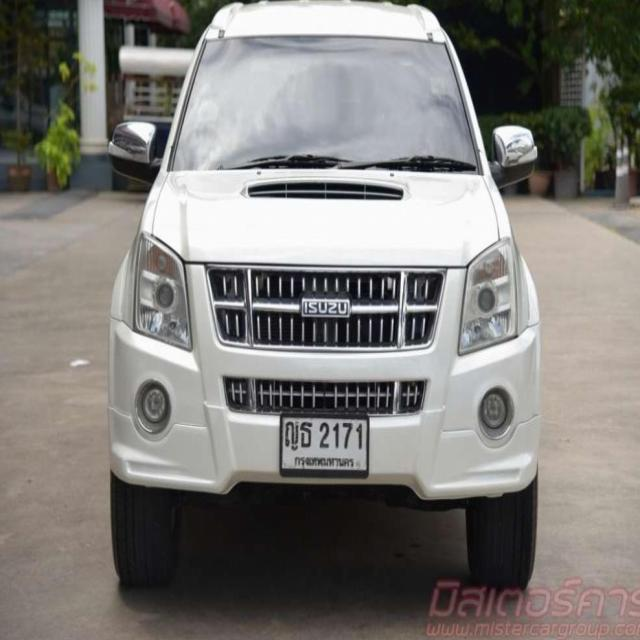license_plate: (277, 403, 375, 487)
